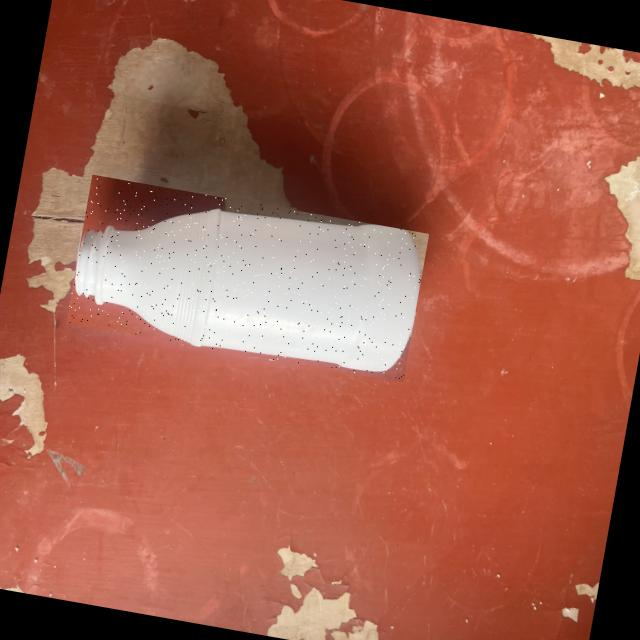HDPE_Bottle: (76, 210, 419, 371)
